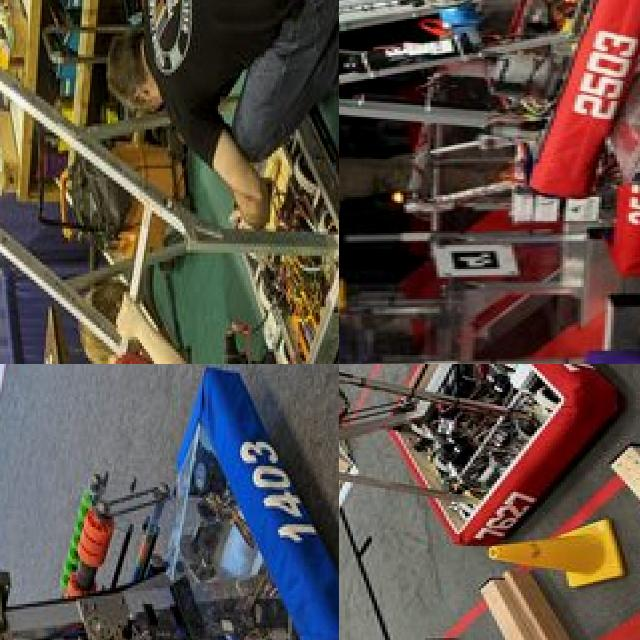FRC-Robots: (0, 364, 339, 640), (0, 96, 339, 330), (339, 364, 613, 640), (339, 0, 640, 195), (387, 162, 640, 285)
